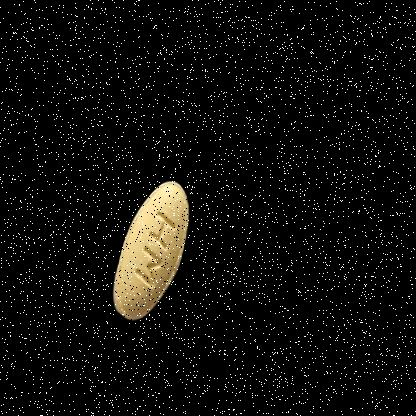tovast10: (95, 159, 213, 339)
